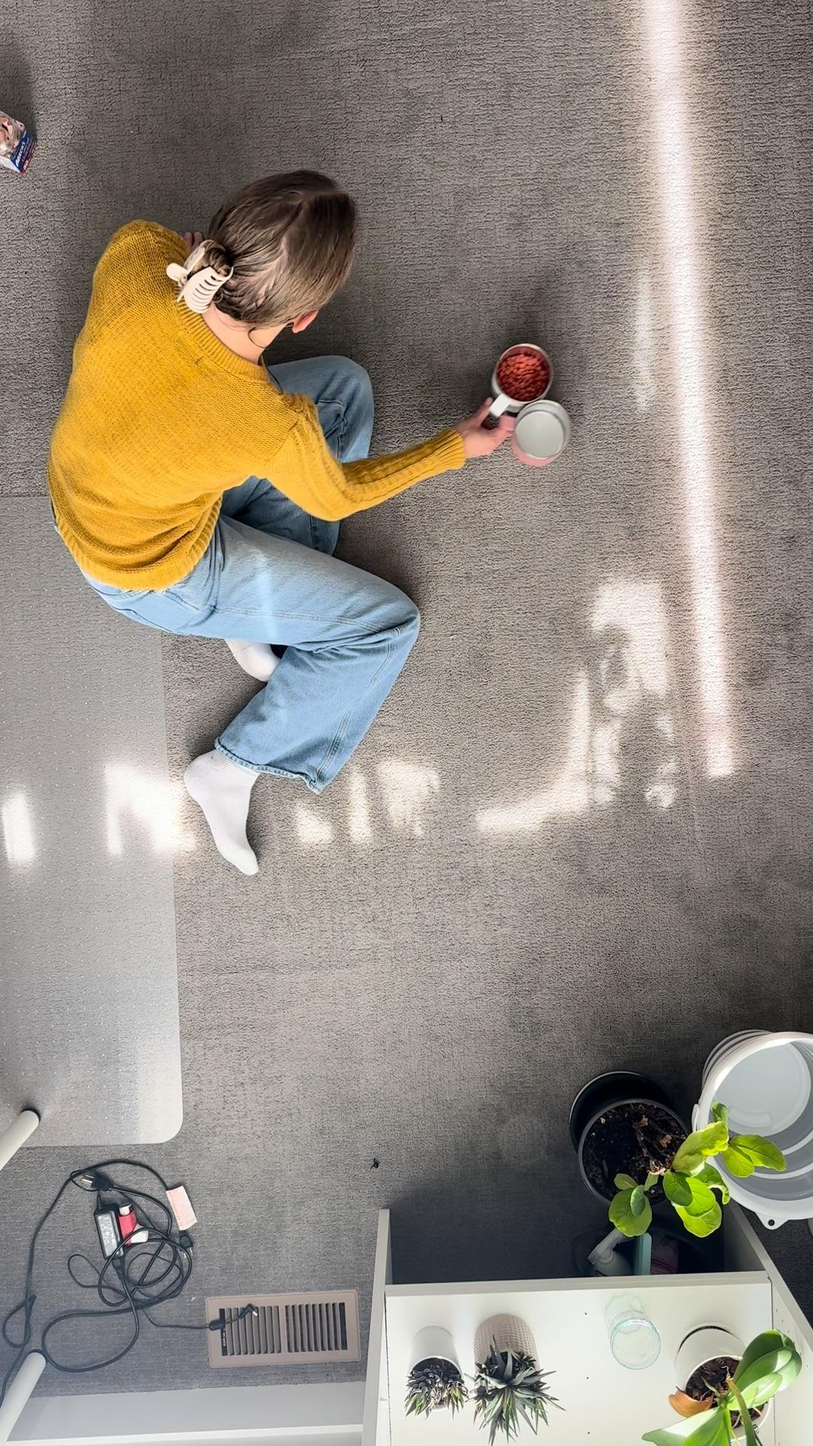IBC: (482, 326, 553, 419), (504, 397, 585, 472)
